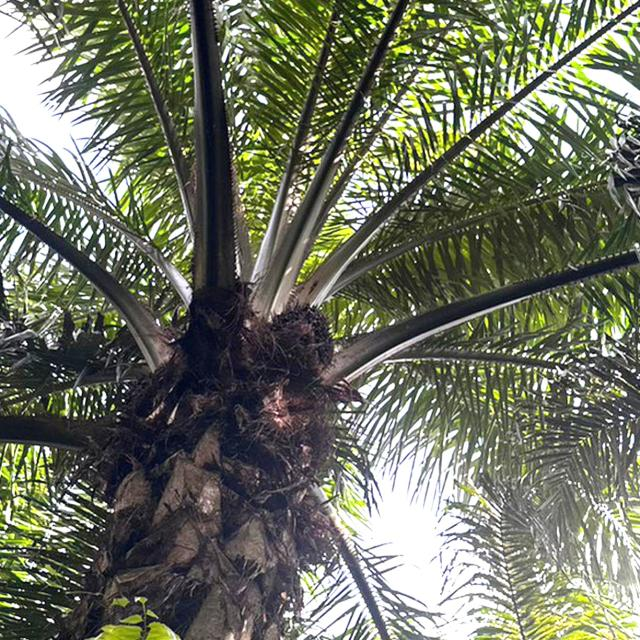unripe: (262, 292, 342, 385)
